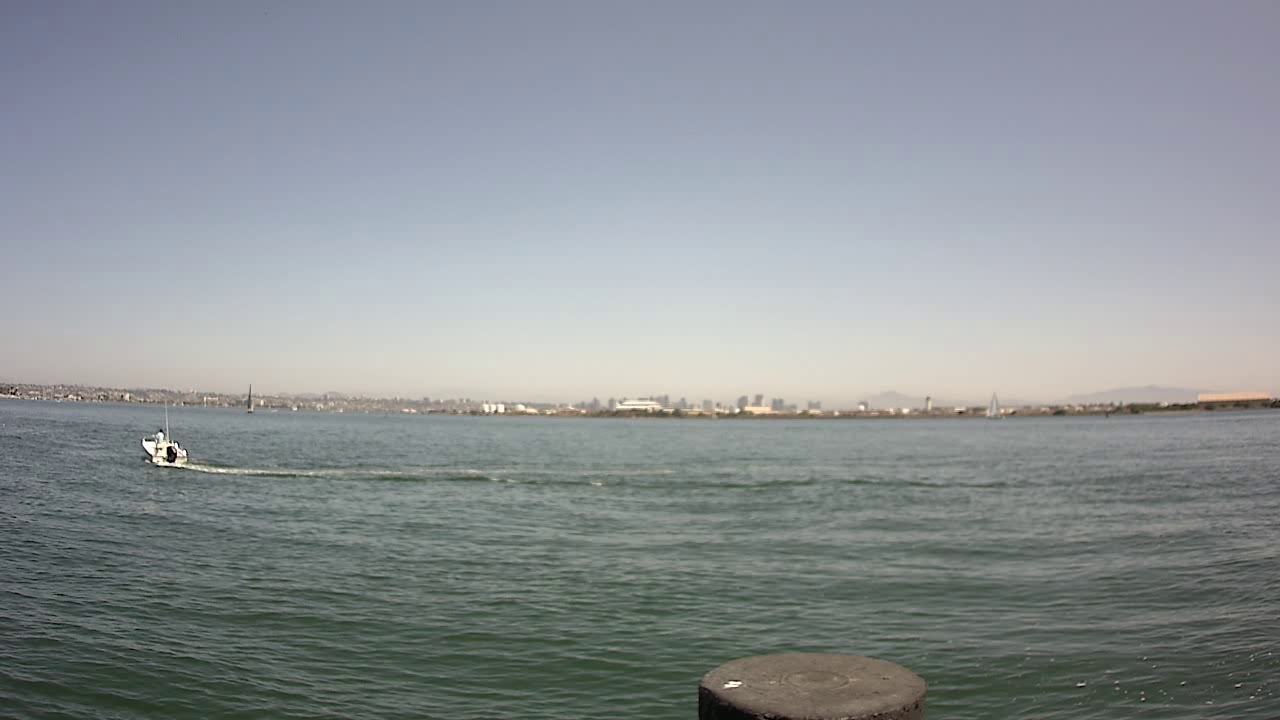target: (135, 423, 198, 472)
